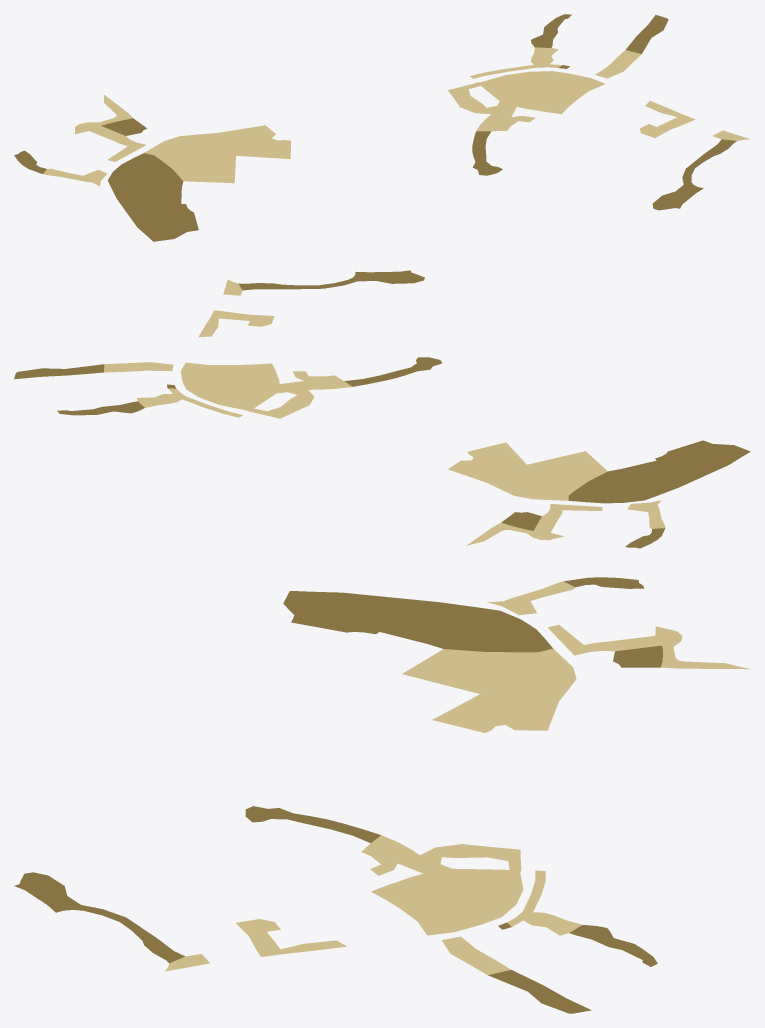
The model's file is GroundBeton.fbx.
The picture shows the model from 3 angles, top to bottom: view 1: azimuth 30°, elevation 25°; view 2: azimuth 150°, elevation 25°; view 3: azimuth 270°, elevation 25°; orthographic projection. The views are drawn at different scales.
Visible parts, largest first — view 1: Plane.009, Plane, Plane.011, Plane.003, Plane.008, Plane.005, Plane.006, Plane.010, Plane.007, Plane.004; view 2: Plane.009, Plane, Plane.011, Plane.003, Plane.008, Plane.005, Plane.006, Plane.010, Plane.007, Plane.004; view 3: Plane.009, Plane, Plane.011, Plane.003, Plane.008, Plane.005, Plane.006, Plane.010, Plane.007, Plane.004.
Boxes of the visible parts, box(x1,y1,x2,y2) form: Plane.009: box(107, 125, 290, 241); Plane: box(480, 71, 604, 113); Plane.011: box(75, 95, 146, 161); Plane.003: box(472, 101, 535, 175); Plane.008: box(652, 130, 749, 210); Plane.005: box(470, 14, 571, 78); Plane.006: box(595, 15, 668, 78); Plane.010: box(14, 150, 106, 186); Plane.007: box(640, 101, 695, 137); Plane.004: box(448, 82, 497, 114); Plane.009: box(448, 440, 750, 503); Plane: box(181, 362, 280, 410); Plane.011: box(466, 504, 602, 545); Plane.003: box(277, 357, 442, 393); Plane.008: box(223, 270, 424, 295); Plane.005: box(57, 384, 242, 417); Plane.006: box(14, 362, 173, 379); Plane.010: box(625, 500, 665, 548); Plane.007: box(198, 310, 274, 337); Plane.004: box(247, 389, 313, 418); Plane.009: box(283, 591, 576, 732); Plane: box(371, 868, 523, 935); Plane.011: box(548, 624, 750, 669); Plane.003: box(245, 806, 451, 875); Plane.008: box(14, 872, 209, 971); Plane.005: box(498, 870, 657, 966); Plane.006: box(441, 936, 591, 1013); Plane.010: box(487, 577, 644, 615); Plane.007: box(236, 919, 346, 956); Plane.004: box(420, 844, 521, 871).
Size of the model in its own units: 2097 by 0 by 1497.
